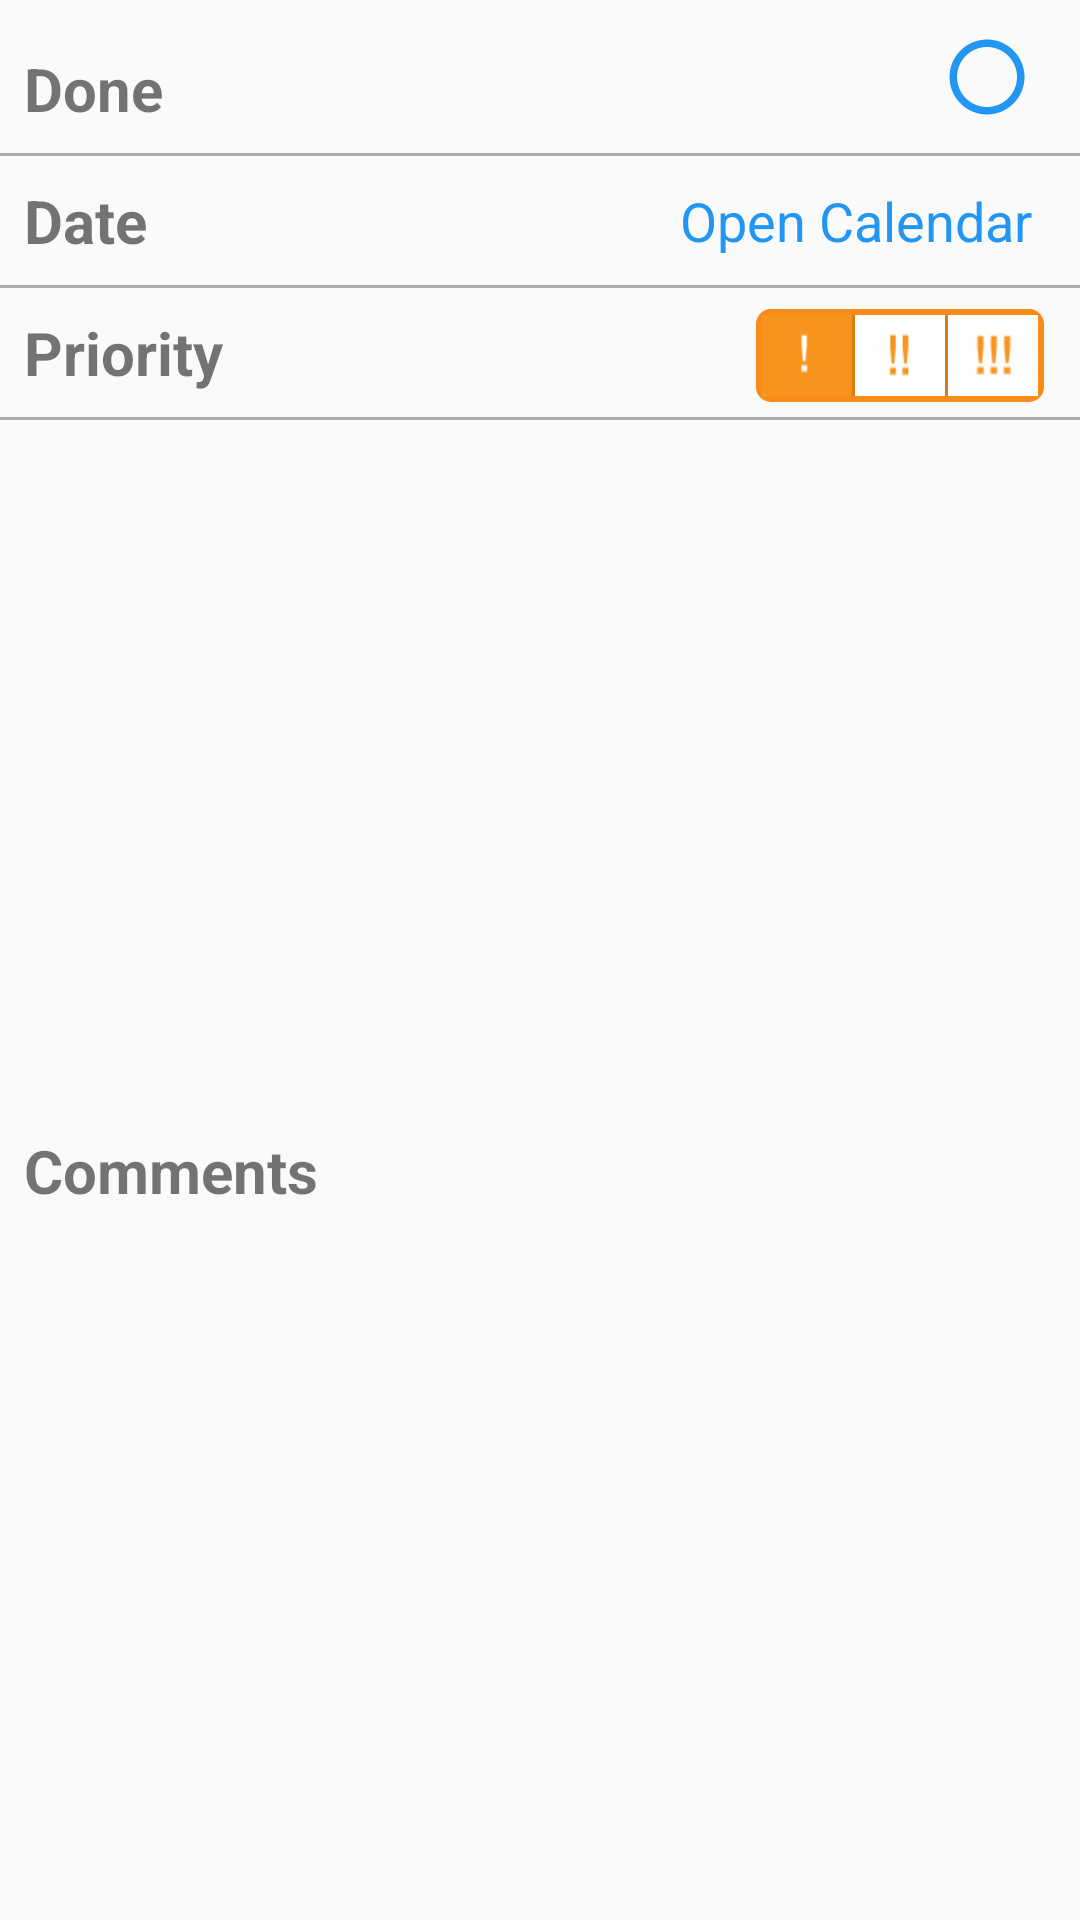

Icons on this 1080px x 1920px Android screen, each with the point to tap as point (x, y):
task not done: point (987, 77)
